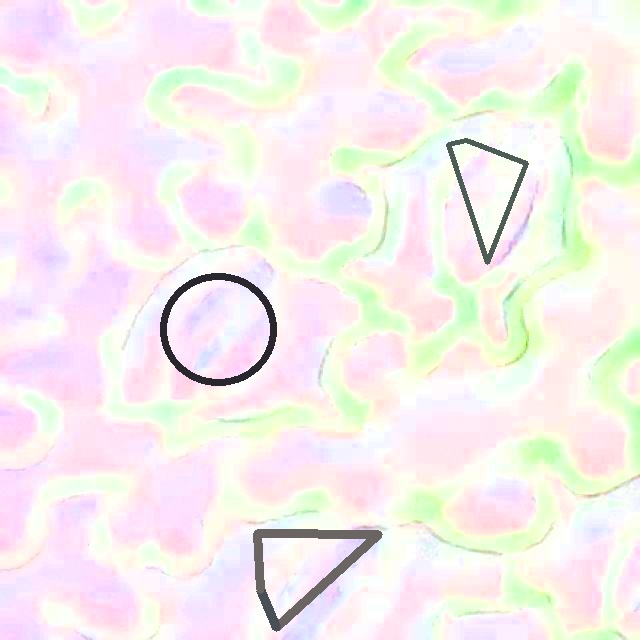open: (160, 273, 277, 385), (256, 529, 382, 631), (447, 138, 527, 263)
